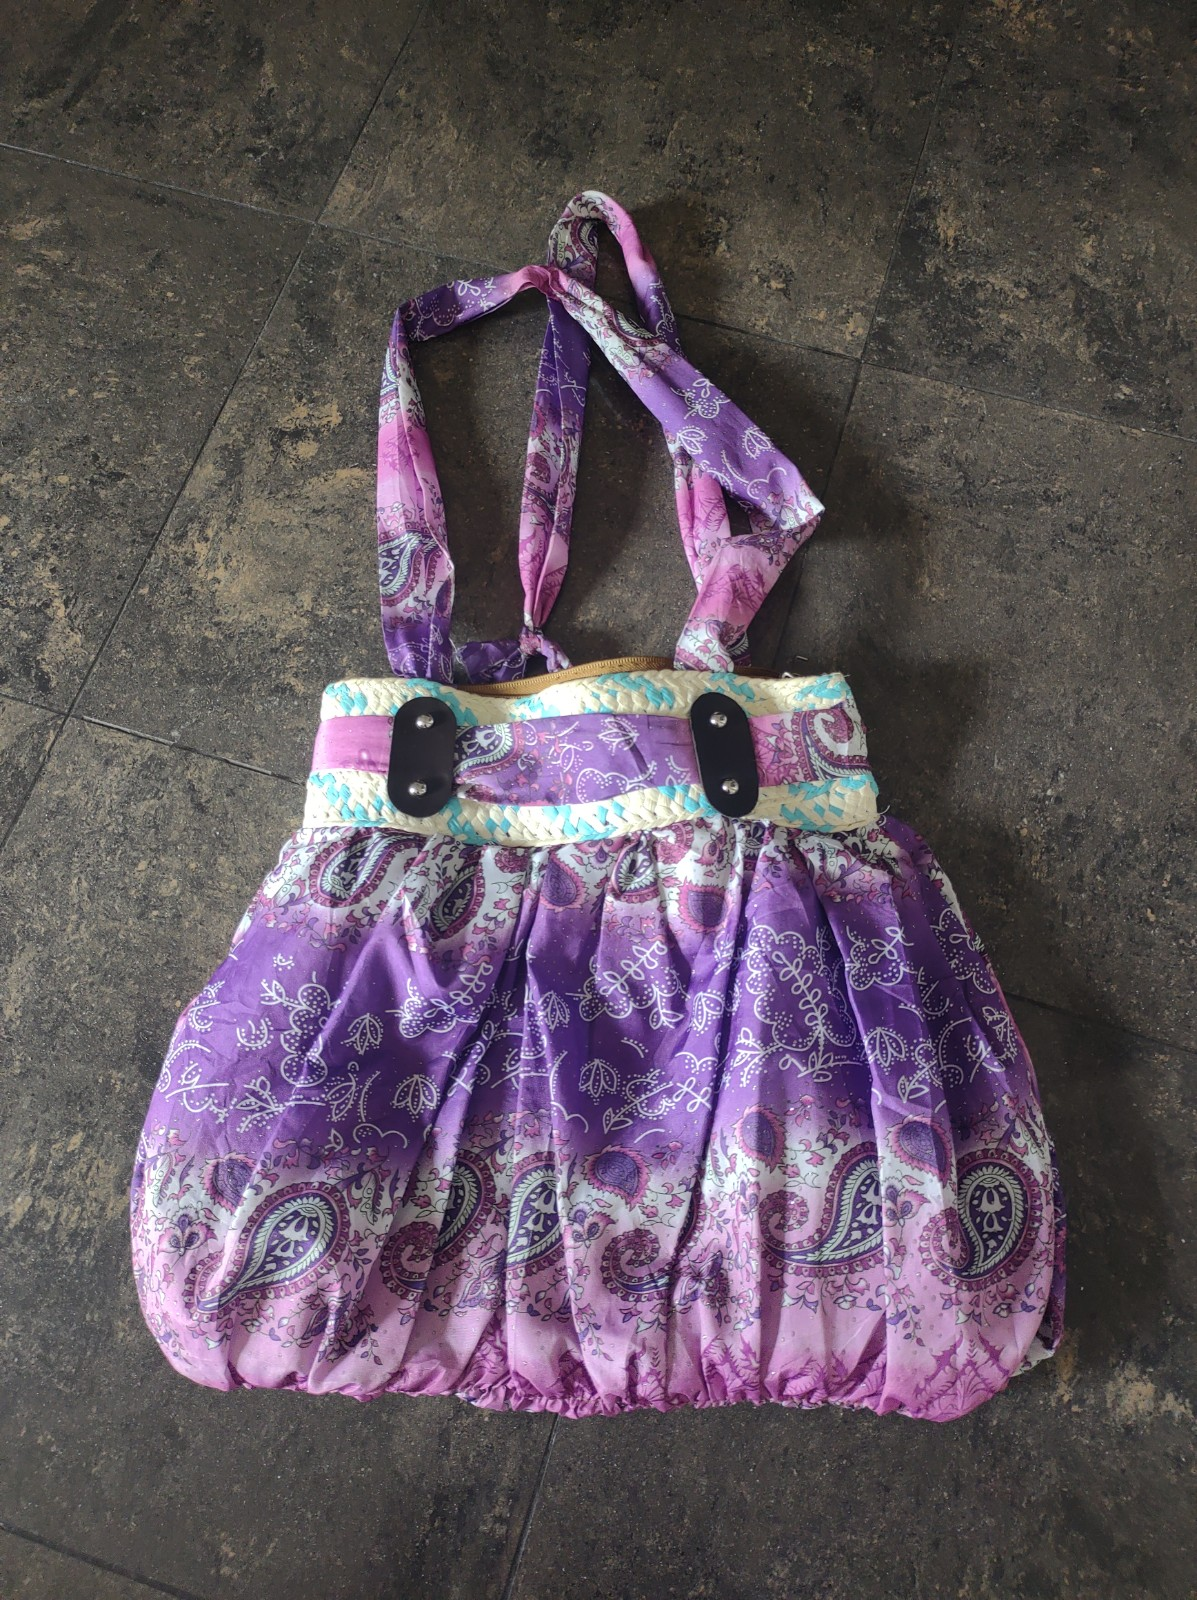cartera: (82, 251, 1094, 1437)
tela: (133, 665, 1073, 1416)
